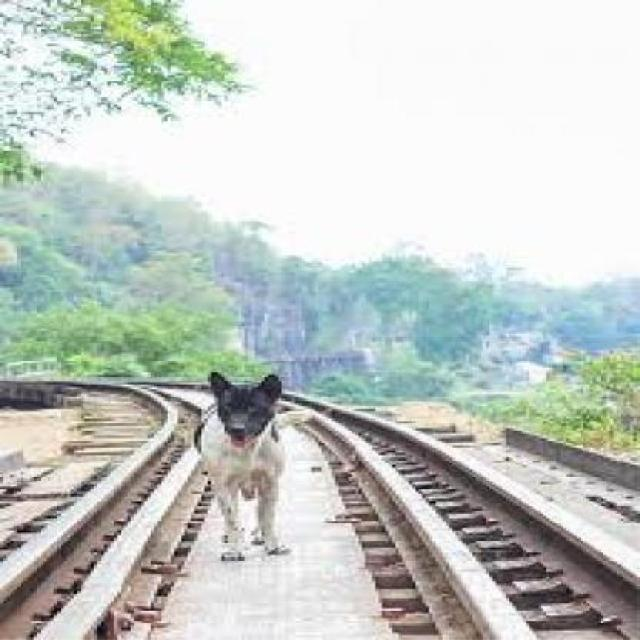rail: (1, 338, 638, 640)
